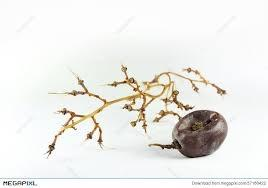Grape Rotten: (148, 109, 228, 158), (171, 109, 228, 158)
